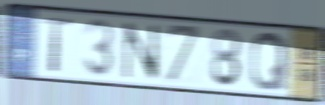3: (83, 17, 116, 80)
7: (166, 21, 203, 86)
8: (209, 26, 243, 90)
N: (122, 21, 161, 83)
Q: (247, 30, 289, 93)
T: (41, 14, 73, 75)
